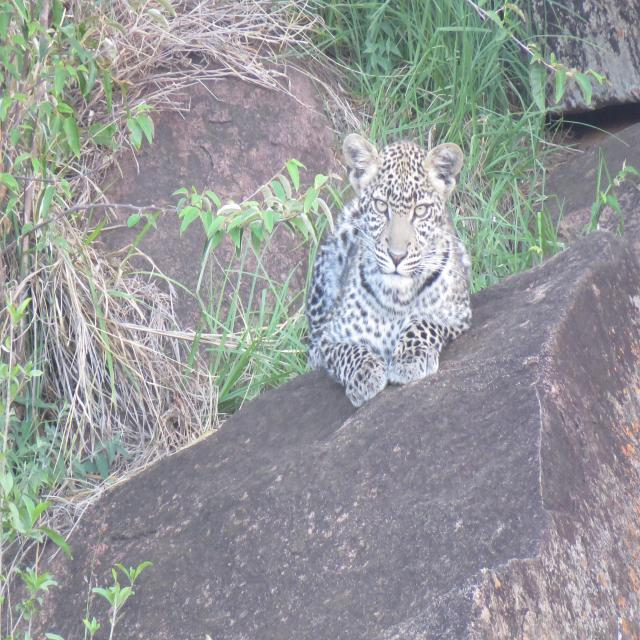Leopard: (297, 119, 468, 414)
